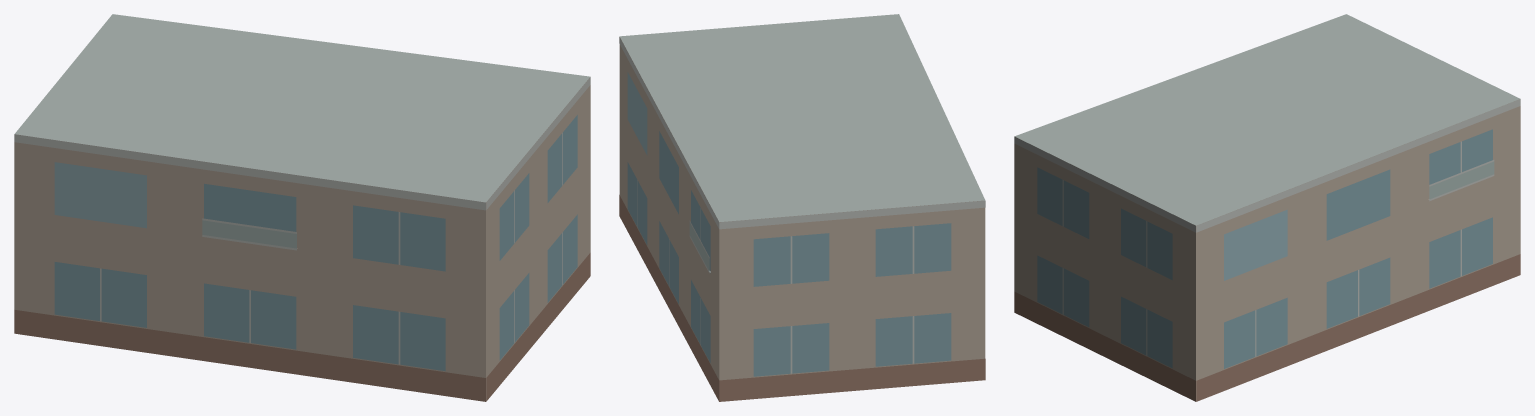
File: survey-upis-32933881.glb
The picture shows the model from 3 angles, left to right: view 1: azimuth 30°, elevation 25°; view 2: azimuth 150°, elevation 25°; view 3: azimuth 270°, elevation 25°; orthographic projection. The views are drawn at different scales.
Visible parts, largest first — view 1: survey-upis-32933881.tmp; view 2: survey-upis-32933881.tmp; view 3: survey-upis-32933881.tmp.
Part boxes in pixels (x1,y1,x2,y2): survey-upis-32933881.tmp: (14, 14, 590, 401); survey-upis-32933881.tmp: (619, 14, 985, 401); survey-upis-32933881.tmp: (1014, 14, 1520, 401).
Bounding box in the file's own units: 15.73 × 6.1 × 15.9.
